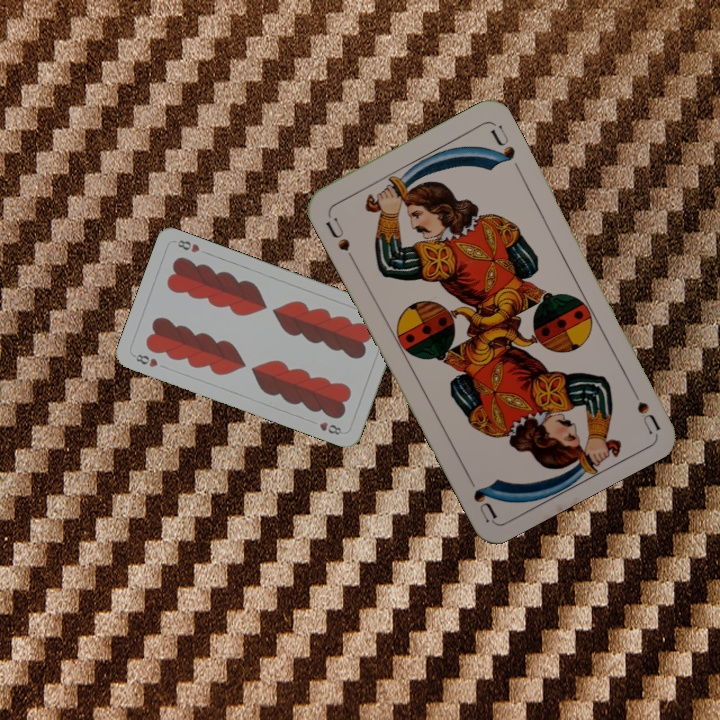H8: (129, 350, 160, 370)
SU: (625, 378, 662, 435), (322, 210, 358, 265)
